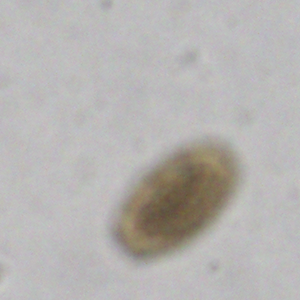Fasciola_hepatica_egg: (114, 135, 243, 263)
